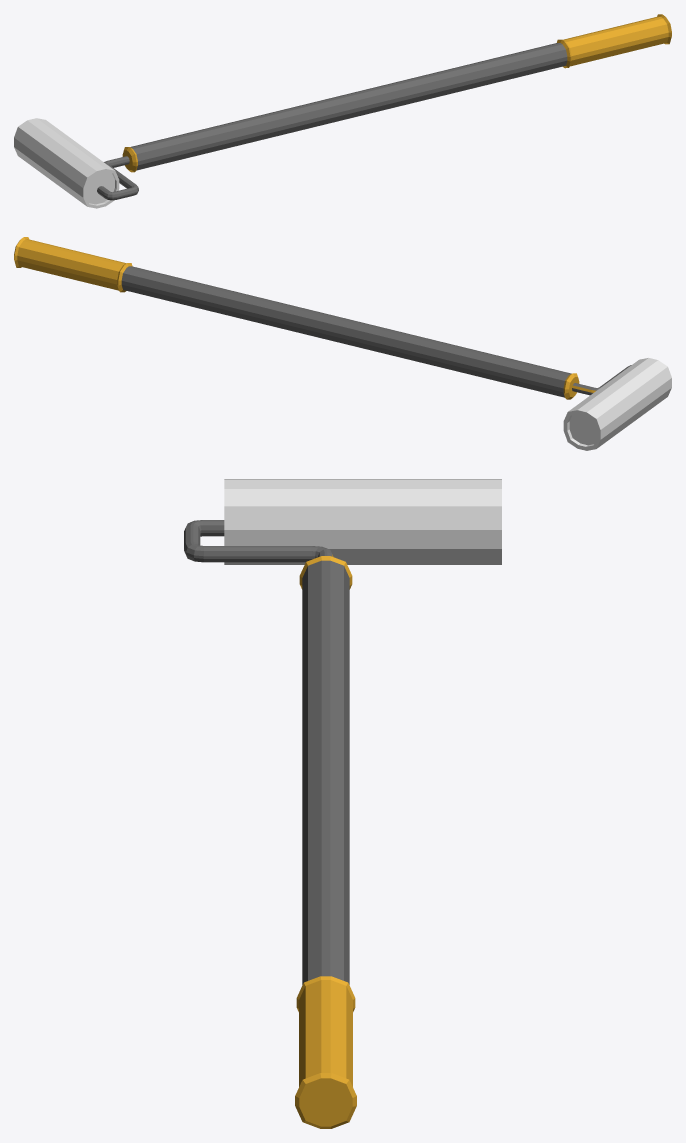
3 views of the same model, one above another, from view 1: azimuth 30°, elevation 25°; view 2: azimuth 150°, elevation 25°; view 3: azimuth 270°, elevation 25° (orthographic). The views are drawn at different scales.
Visible parts, largest first — view 1: F-15, Cube.196; view 2: F-15, Cube.196; view 3: F-15, Cube.196.
Boxes of the visible parts, x1,y1,x2,y2 form: F-15: [97, 14, 671, 200]; Cube.196: [14, 118, 119, 208]; F-15: [14, 237, 631, 399]; Cube.196: [563, 358, 671, 450]; F-15: [184, 520, 356, 1128]; Cube.196: [224, 479, 501, 564].
Bounding box in the file's own units: 381 × 22.46 × 86.51.
